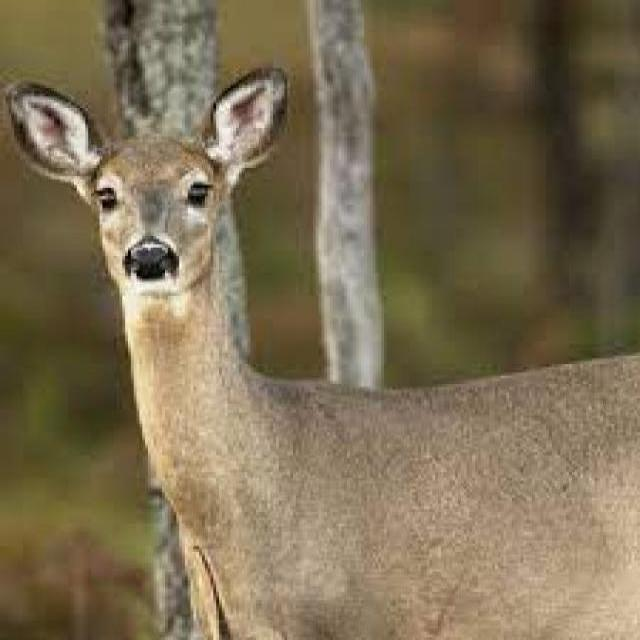deer: (4, 68, 636, 640)
